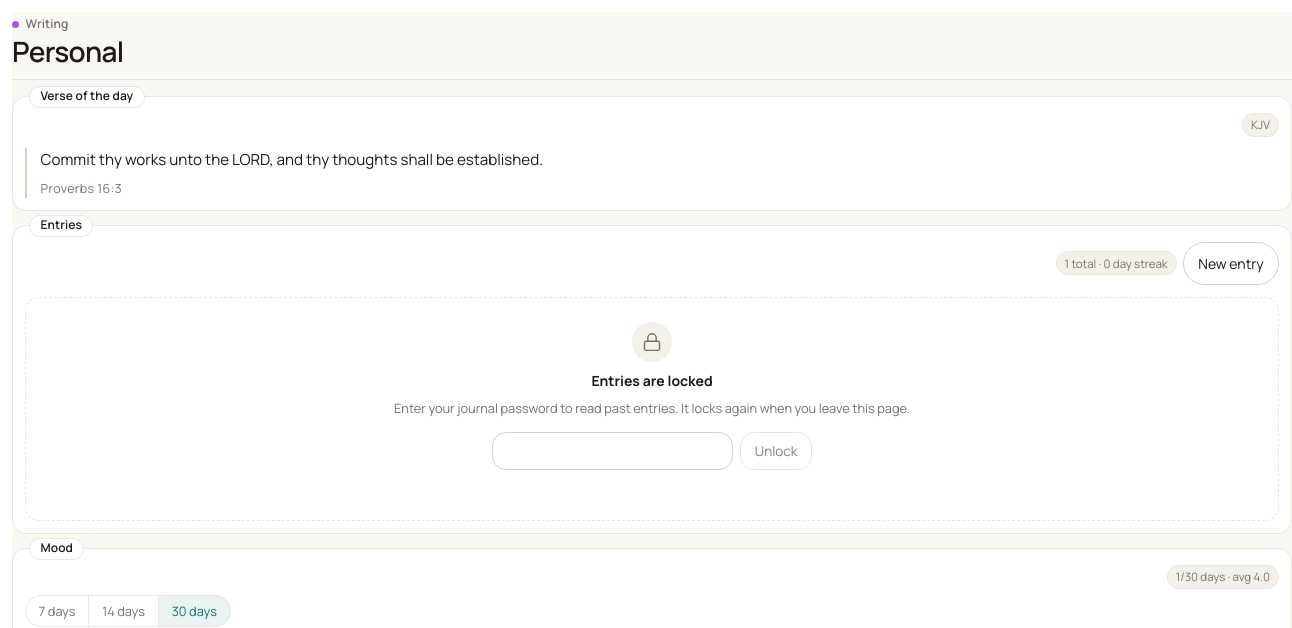
JournalDashboard › shows the entry once unlocked, with no tag filter above it
In the password field named "Journal password": (612, 451) x1=492 y1=432 x2=733 y2=470, type "pw"
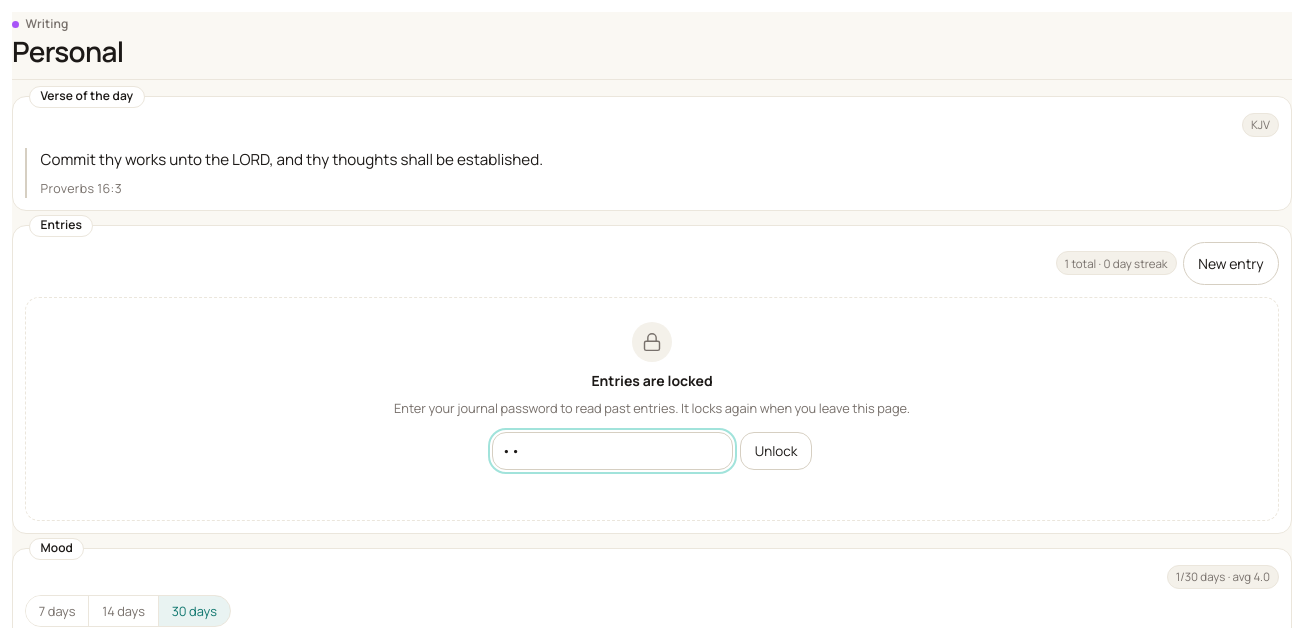
Click the button "Unlock": click(776, 451) x1=740 y1=432 x2=812 y2=470
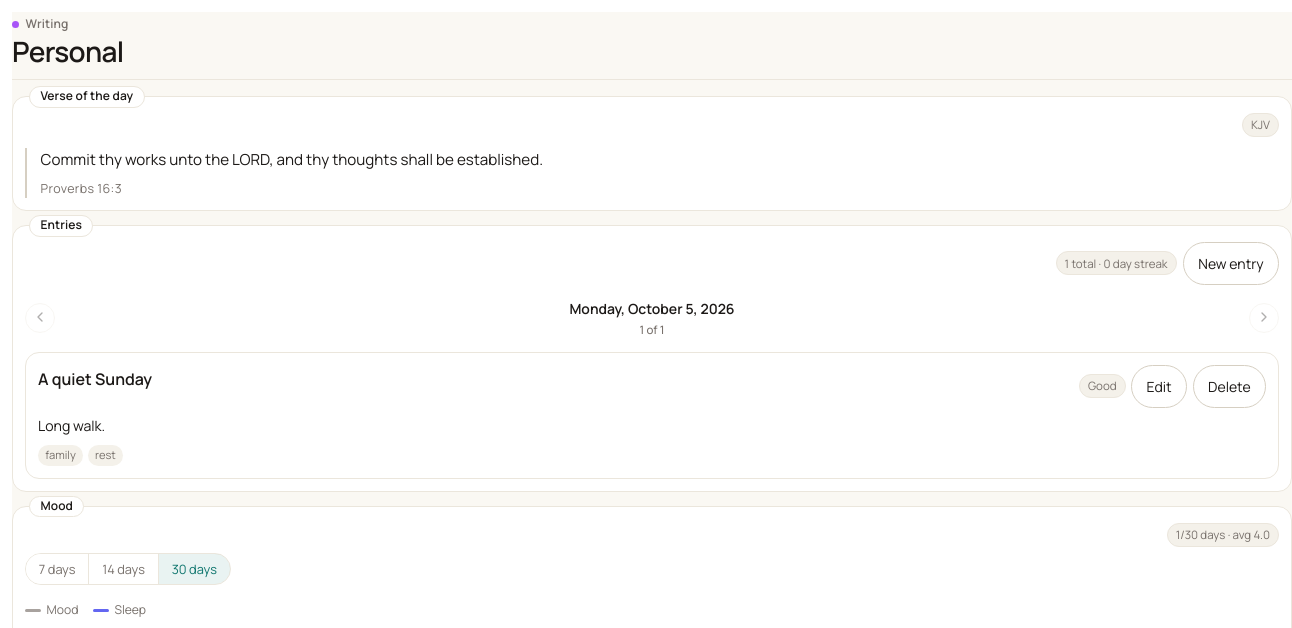
Now the heading "A quiet Sunday" is shown, box x1=38 y1=367 x2=152 y2=391
Now the text "family" is shown, box x1=38 y1=445 x2=83 y2=466
